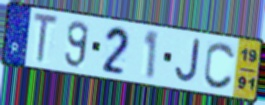1: (142, 29, 160, 82)
2: (100, 23, 132, 78)
9: (63, 20, 90, 69)
C: (202, 40, 237, 91)
J: (173, 38, 201, 85)
T: (32, 11, 60, 65)
